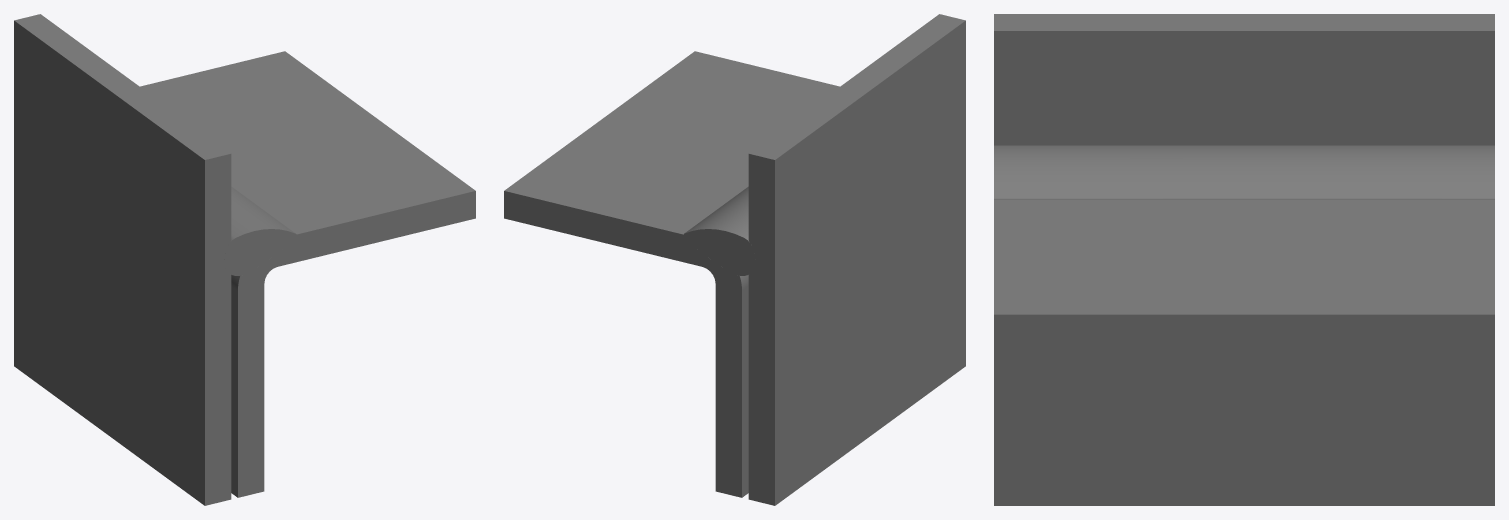
The picture shows the model from 3 angles, left to right: view 1: azimuth 30°, elevation 25°; view 2: azimuth 150°, elevation 25°; view 3: azimuth 270°, elevation 25°; orthographic projection. The views are drawn at different scales.
Parts seen in each view (by area): view 1: mesh_id4, mesh_id5; view 2: mesh_id4, mesh_id5; view 3: mesh_id4, mesh_id5.
Boxes of the visible parts, x1=… form: mesh_id4: x1=14, y1=14, x2=475, y2=505; mesh_id5: x1=224, y1=186, x2=296, y2=275; mesh_id4: x1=504, y1=14, x2=965, y2=505; mesh_id5: x1=683, y1=186, x2=755, y2=275; mesh_id4: x1=994, y1=14, x2=1494, y2=505; mesh_id5: x1=994, y1=145, x2=1494, y2=199.
Size of the model in its own units: 0.4198 by 0.512 by 0.512.
2 materials, 2 textured.
